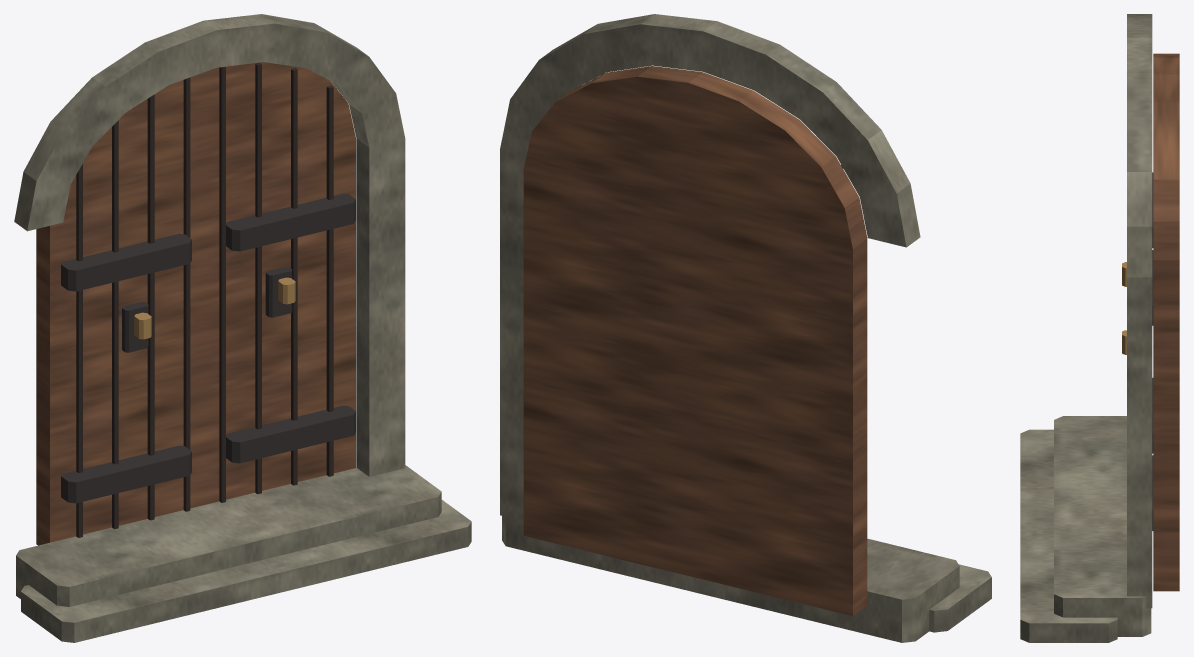
Rendered from chapel_entry.glb.
3 renders of one model, left to right at view 1: azimuth 30°, elevation 25°; view 2: azimuth 150°, elevation 25°; view 3: azimuth 270°, elevation 25°, orthographic. The views are drawn at different scales.
Parts seen in each view (by area): view 1: Chapel Entry; view 2: Chapel Entry; view 3: Chapel Entry.
Part boxes in pixels (<box>): Chapel Entry: <box>14,14,471,642</box>; Chapel Entry: <box>500,14,991,642</box>; Chapel Entry: <box>1020,14,1179,642</box>.
Size of the model in its own units: 2.45 by 2.99 by 0.85.
Materials: 5 (2 with a texture image).
